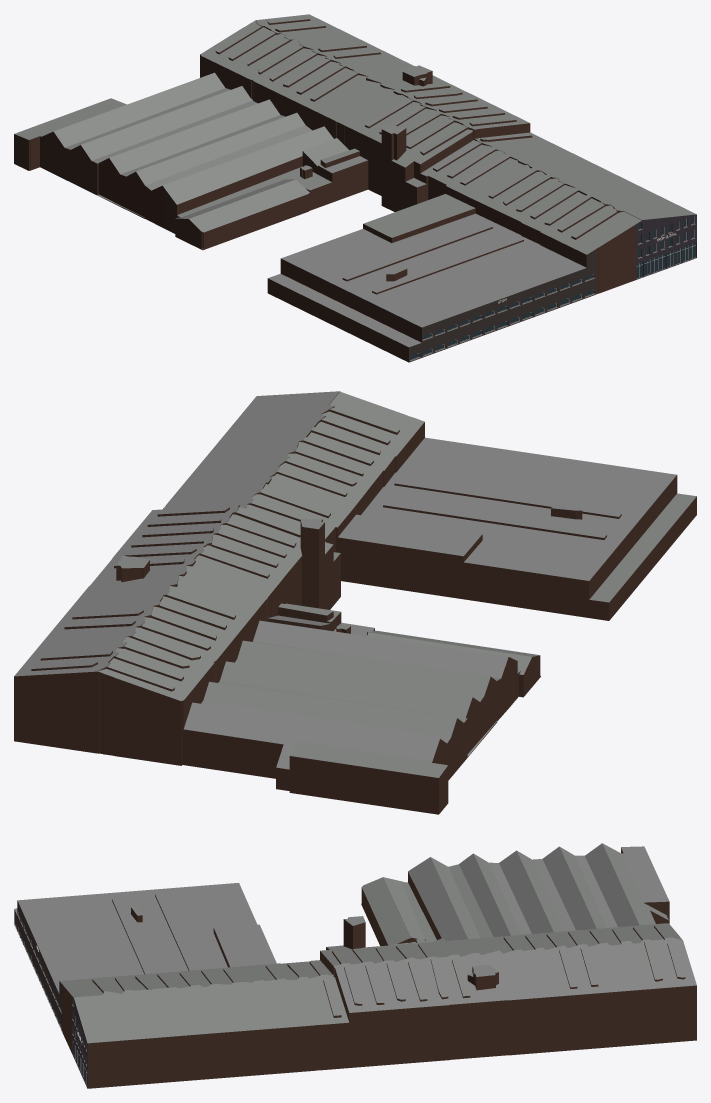
The model's file is recipe-large-hamerkanaal-209-243116.glb.
The picture shows the model from 3 angles, top to bottom: view 1: azimuth 30°, elevation 25°; view 2: azimuth 150°, elevation 25°; view 3: azimuth 270°, elevation 25°; orthographic projection. The views are drawn at different scales.
Parts seen in each view (by area): view 1: hamerkanaal-209-243116; view 2: hamerkanaal-209-243116; view 3: hamerkanaal-209-243116.
Part boxes in pixels (left/top/right/bottom): hamerkanaal-209-243116: left=14, top=14, right=696, bottom=362; hamerkanaal-209-243116: left=14, top=391, right=696, bottom=814; hamerkanaal-209-243116: left=14, top=843, right=696, bottom=1088.
Bounding box in the file's own units: 113 × 19.94 × 155.
